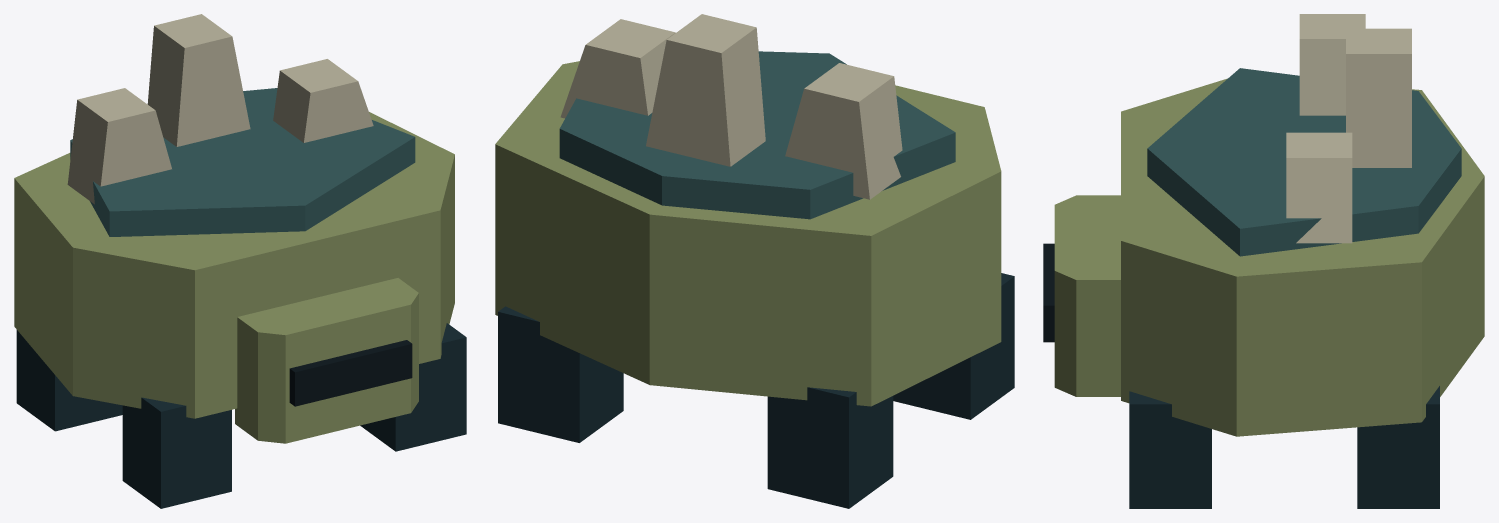
Rendered from thorn.glb.
The picture shows the model from 3 angles, left to right: view 1: azimuth 30°, elevation 25°; view 2: azimuth 150°, elevation 25°; view 3: azimuth 270°, elevation 25°; orthographic projection. The views are drawn at different scales.
Parts seen in each view (by area): view 1: body; view 2: body; view 3: body.
Boxes of the visible parts, left/top/right/bottom form: body: left=14, top=14, right=466, bottom=508; body: left=495, top=14, right=1014, bottom=508; body: left=1043, top=14, right=1484, bottom=508.
Bounding box in the file's own units: 1.4 × 1.25 × 1.3.
